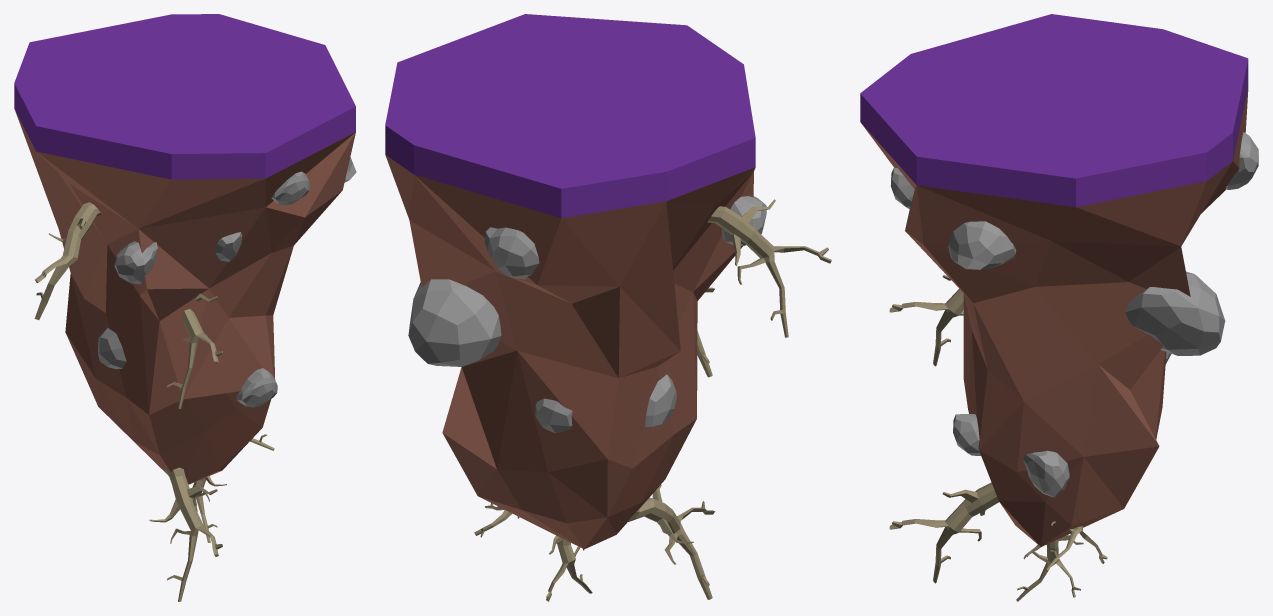
The model's file is 01_03Island_Purple.fbx.
3 renders of one model, left to right at view 1: azimuth 30°, elevation 25°; view 2: azimuth 150°, elevation 25°; view 3: azimuth 270°, elevation 25°, orthographic. The views are drawn at different scales.
Parts seen in each view (by area): view 1: Cube.016; view 2: Cube.016; view 3: Cube.016.
Boxes of the visible parts, bbox=[...] form: Cube.016: bbox=[14, 14, 356, 601]; Cube.016: bbox=[385, 14, 831, 601]; Cube.016: bbox=[860, 14, 1258, 601].
Bounding box in the file's own units: 950 × 1255 × 875.
